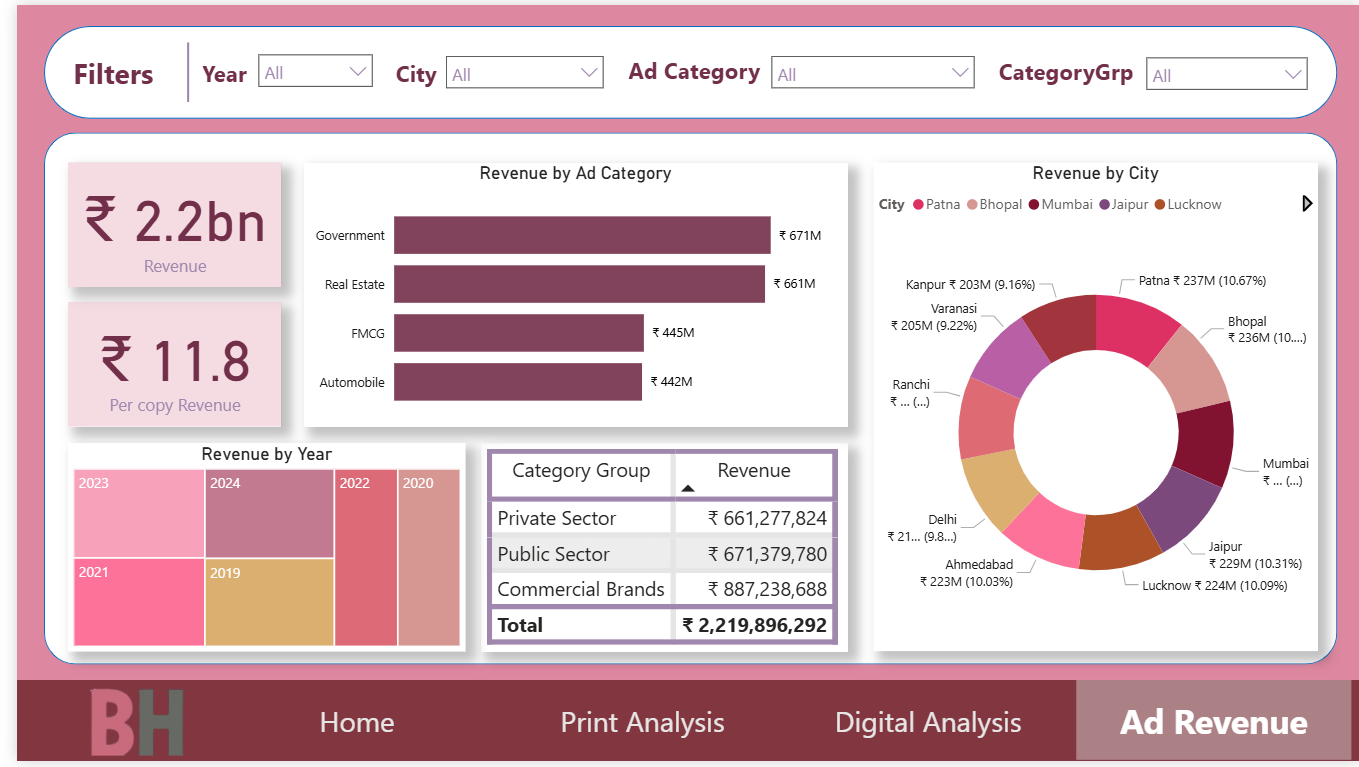

The page's visual inventory and layout, read from the dashboard file:
{"tool":"powerbi","page":{"name":"Ad Revenue","canvas":[1280,720],"ordinal":3},"visuals":[{"type":"shape","box":[25,121.7,1231.7,506.7],"z":0},{"type":"textbox","box":[0,642.9,1280,77.1],"z":0,"group":"g1"},{"type":"shape","box":[25,20,1231.7,88.3],"z":1000},{"type":"card","fields":{"Values":["Sum(fact_ad_revenue.revenue_in_inr)"]},"box":[48.3,150,203.3,118.3],"z":2000},{"type":"card","fields":{"Values":["fact_ad_revenue.Per copy Revenue"]},"box":[48.3,283.3,203.3,118.3],"z":3000},{"type":"clusteredBarChart","fields":{"Category":["dim_ad_category.standard_ad_category"],"Y":["Sum(fact_ad_revenue.revenue_in_inr)"]},"box":[273.3,150,518.3,251.7],"z":4000},{"type":"pageNavigator","box":[192.3,643.5,1080.6,76.2],"z":4000,"group":"g1"},{"type":"tableEx","fields":{"Values":["dim_ad_category.category_group","Sum(fact_ad_revenue.revenue_in_inr)"]},"box":[441.7,416.7,350,198.3],"z":5000},{"type":"image","box":[34.3,642.9,158.6,77.1],"z":5000,"group":"g1"},{"type":"donutChart","fields":{"Y":["fact_ad_revenue.total revenue"],"Category":["dim_edition.City"]},"box":[815,150,423.3,465],"z":6000},{"type":"treemap","fields":{"Group":["calender.Date.Variation.Date Hierarchy.Year"],"Values":["Sum(fact_ad_revenue.revenue_in_inr)"]},"box":[48.3,416.7,378.3,198.3],"z":7000},{"type":"group","id":"g1","title":"Group 1","box":[0,642.9,1280,77.1],"z":8000},{"type":"group","id":"g2","title":"Group 6","box":[48.3,35,200,65],"z":9000},{"type":"textbox","box":[356.1,43.3,58.3,56.7],"z":9000,"group":"g4"},{"type":"group","id":"g3","title":"Group 2","box":[171.7,36.7,176.7,63.3],"z":10000},{"type":"textbox","box":[171.7,43.4,58.3,56.7],"z":10000,"group":"g3"},{"type":"slicer","fields":{"Values":["calender.Date.Variation.Date Hierarchy.Year"]},"box":[220,36.7,128.3,55],"z":11000,"group":"g3"},{"type":"group","id":"g4","title":"Group 3","box":[356.1,38.3,213.3,61.7],"z":11000},{"type":"textbox","box":[48.3,40,171.7,60],"z":11000,"group":"g2"},{"type":"shape","box":[76.6,35,171.7,56.7],"z":12000,"group":"g2"},{"type":"slicer","fields":{"Values":["dim_city.city"]},"box":[399.4,38.3,170,55],"z":12000,"group":"g4"},{"type":"group","id":"g5","title":"Group 4","box":[577.2,38.3,345,55],"z":12000},{"type":"group","id":"g6","title":"Group 5","box":[930,40,308.3,53.3],"z":13000},{"type":"textbox","box":[577.2,41.6,151.7,50],"z":13000,"group":"g5"},{"type":"slicer","fields":{"Values":["dim_ad_category.standard_ad_category"]},"box":[708.9,38.3,213.3,55],"z":14000,"group":"g5"},{"type":"textbox","box":[930,43.3,151.7,50],"z":15000,"group":"g6"},{"type":"slicer","fields":{"Values":["dim_ad_category.category_group"]},"box":[1065,40,173.3,50],"z":16000,"group":"g6"}]}

Visuals, with their boxes in screenshot pixels (x1, y1, x2, y2), scaled from the page's 1280x720 canvas onto the 1359x767 screenshot:
shape: 27, 130, 1334, 669
textbox: 0, 685, 1358, 766
shape: 27, 21, 1334, 115
card - Sum(fact_ad_revenue.revenue_in_inr): 51, 160, 267, 286
card - fact_ad_revenue.Per copy Revenue: 51, 302, 267, 428
clusteredBarChart - dim_ad_category.standard_ad_category x Sum(fact_ad_revenue.revenue_in_inr): 290, 160, 840, 428
pageNavigator: 204, 686, 1351, 766
tableEx - dim_ad_category.category_group x Sum(fact_ad_revenue.revenue_in_inr): 469, 444, 841, 655
image: 36, 685, 205, 766
donutChart - fact_ad_revenue.total revenue x dim_edition.City: 865, 160, 1315, 655
treemap - calender.Date.Variation.Date Hierarchy.Year x Sum(fact_ad_revenue.revenue_in_inr): 51, 444, 453, 655
"Group 1" group: 0, 685, 1358, 766
"Group 6" group: 51, 37, 264, 107
textbox: 378, 46, 440, 107
"Group 2" group: 182, 39, 370, 107
textbox: 182, 46, 244, 107
slicer - calender.Date.Variation.Date Hierarchy.Year: 234, 39, 370, 98
"Group 3" group: 378, 41, 605, 107
textbox: 51, 43, 234, 107
shape: 81, 37, 264, 98
slicer - dim_city.city: 424, 41, 605, 99
"Group 4" group: 613, 41, 979, 99
"Group 5" group: 987, 43, 1315, 99
textbox: 613, 44, 774, 98
slicer - dim_ad_category.standard_ad_category: 753, 41, 979, 99
textbox: 987, 46, 1148, 99
slicer - dim_ad_category.category_group: 1131, 43, 1315, 96
